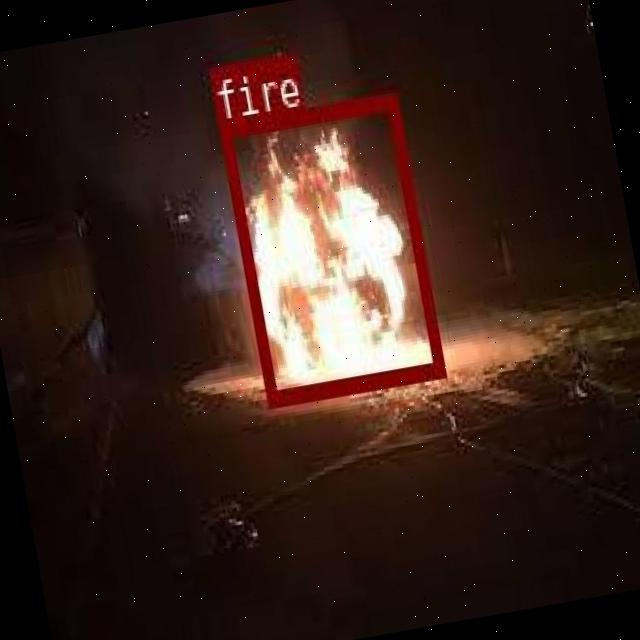fire: (216, 90, 443, 406)
